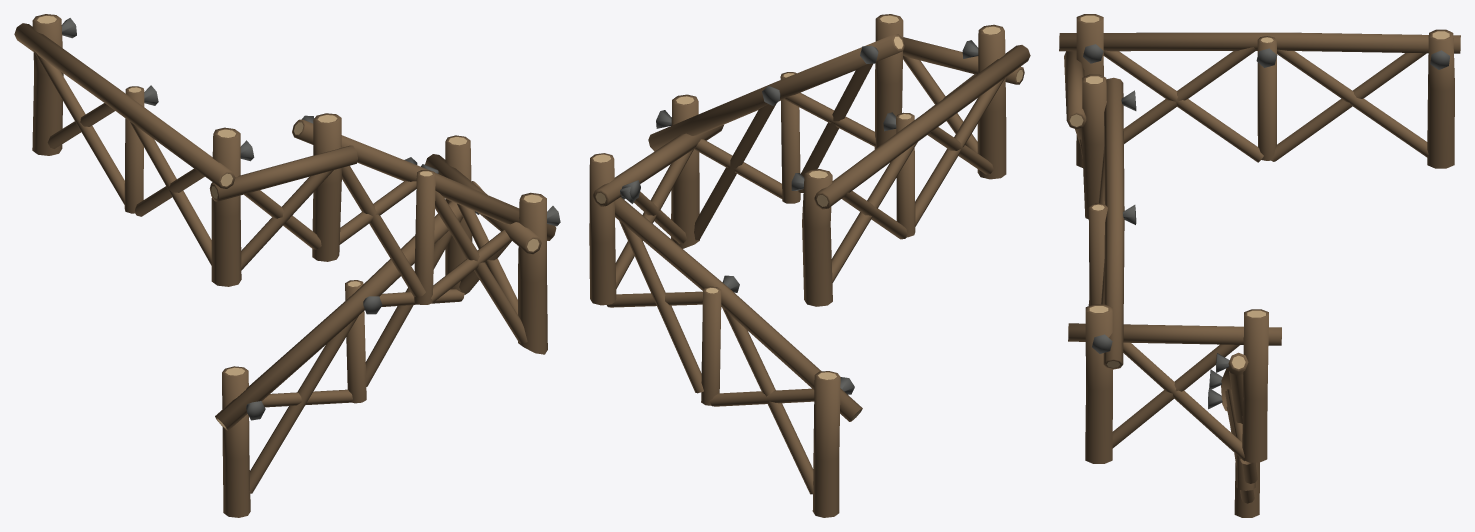
Rendered from rpgpp_ag_stairs_interior_02d_4m_handrail_01.fbx.
The picture shows the model from 3 angles, left to right: view 1: azimuth 30°, elevation 25°; view 2: azimuth 150°, elevation 25°; view 3: azimuth 270°, elevation 25°; orthographic projection. The views are drawn at different scales.
Parts seen in each view (by area): view 1: rpgpp_ag_stairs_interior_02d_4m_handrail_01; view 2: rpgpp_ag_stairs_interior_02d_4m_handrail_01; view 3: rpgpp_ag_stairs_interior_02d_4m_handrail_01.
Boxes of the visible parts, x1,y1,x2,y2 form: rpgpp_ag_stairs_interior_02d_4m_handrail_01: (14, 14, 560, 517); rpgpp_ag_stairs_interior_02d_4m_handrail_01: (589, 14, 1030, 517); rpgpp_ag_stairs_interior_02d_4m_handrail_01: (1059, 14, 1460, 517).
Size of the model in its own units: 4.52 by 5.44 by 4.4.
